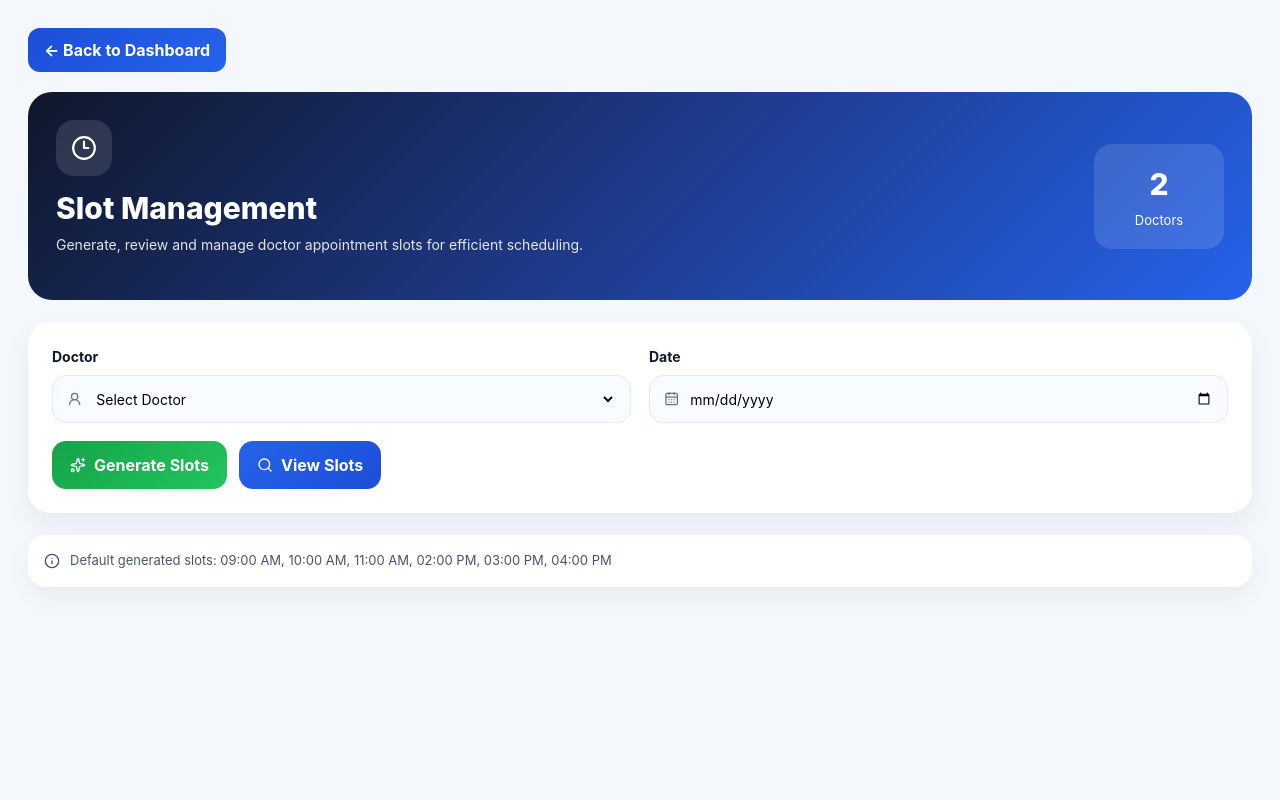
Test: AdminSlots › slots displayed
The image size is (1280, 800).
Select "Dr. Ravi Kumar (Cardiology)" in the dropdown at (354, 399), box [92,390,616,409]
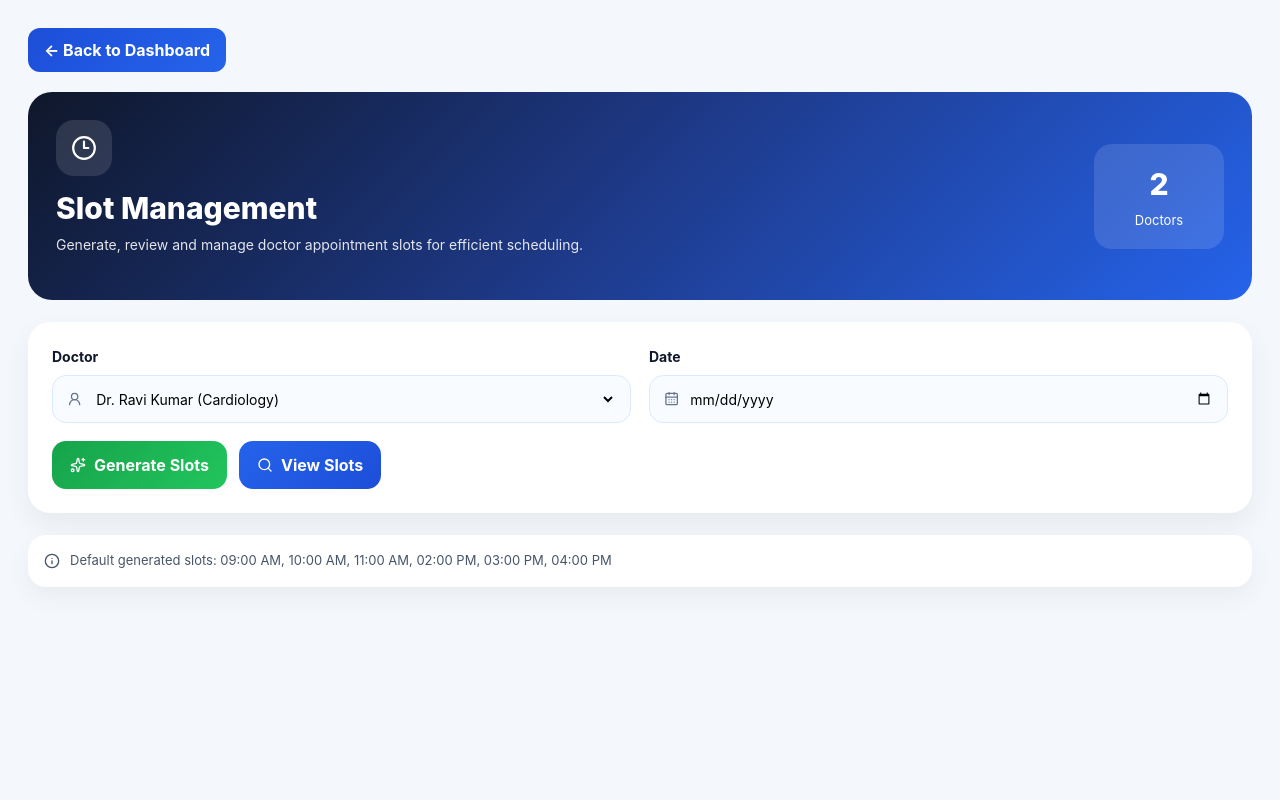
Type "2026-05-10" into the date field.
click(951, 399); type("2026-05-10")  # box [689,389,1213,410]
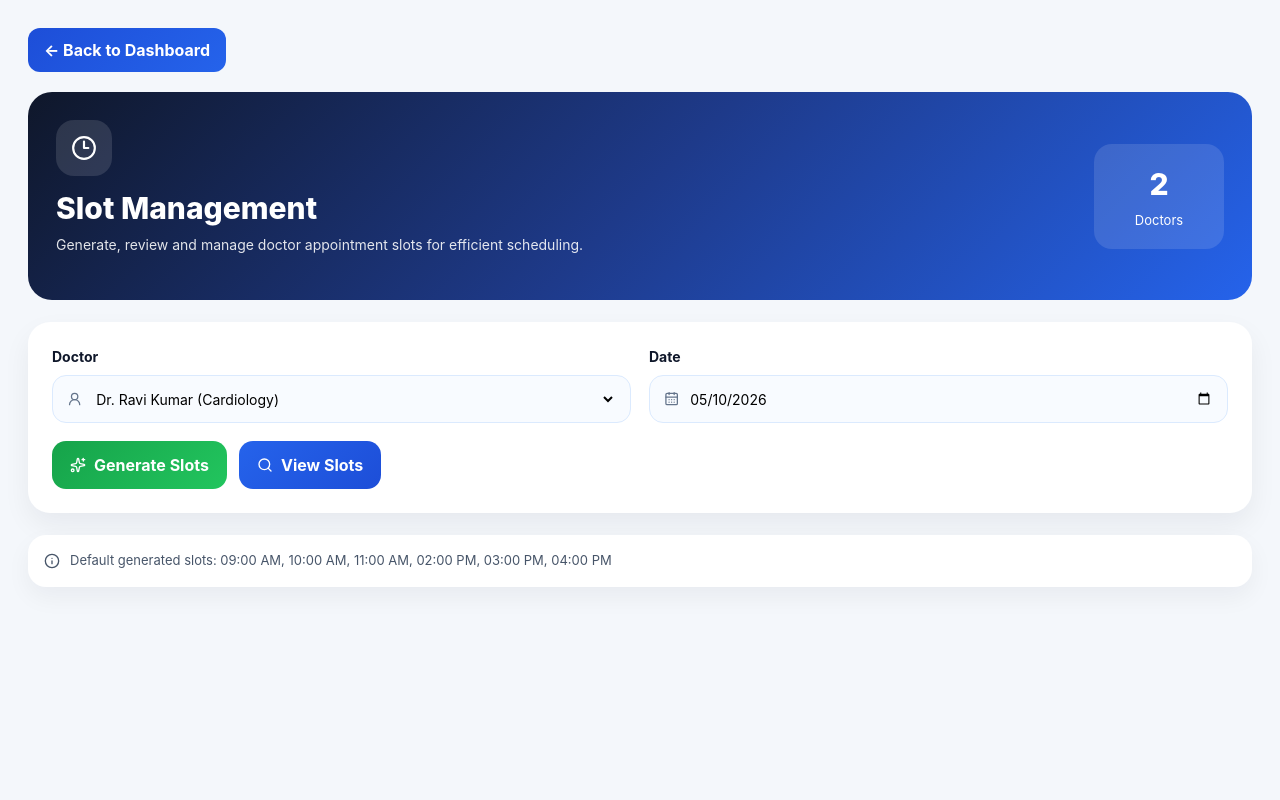
Click the button "View Slots".
click(310, 465)  # box [239,441,381,489]
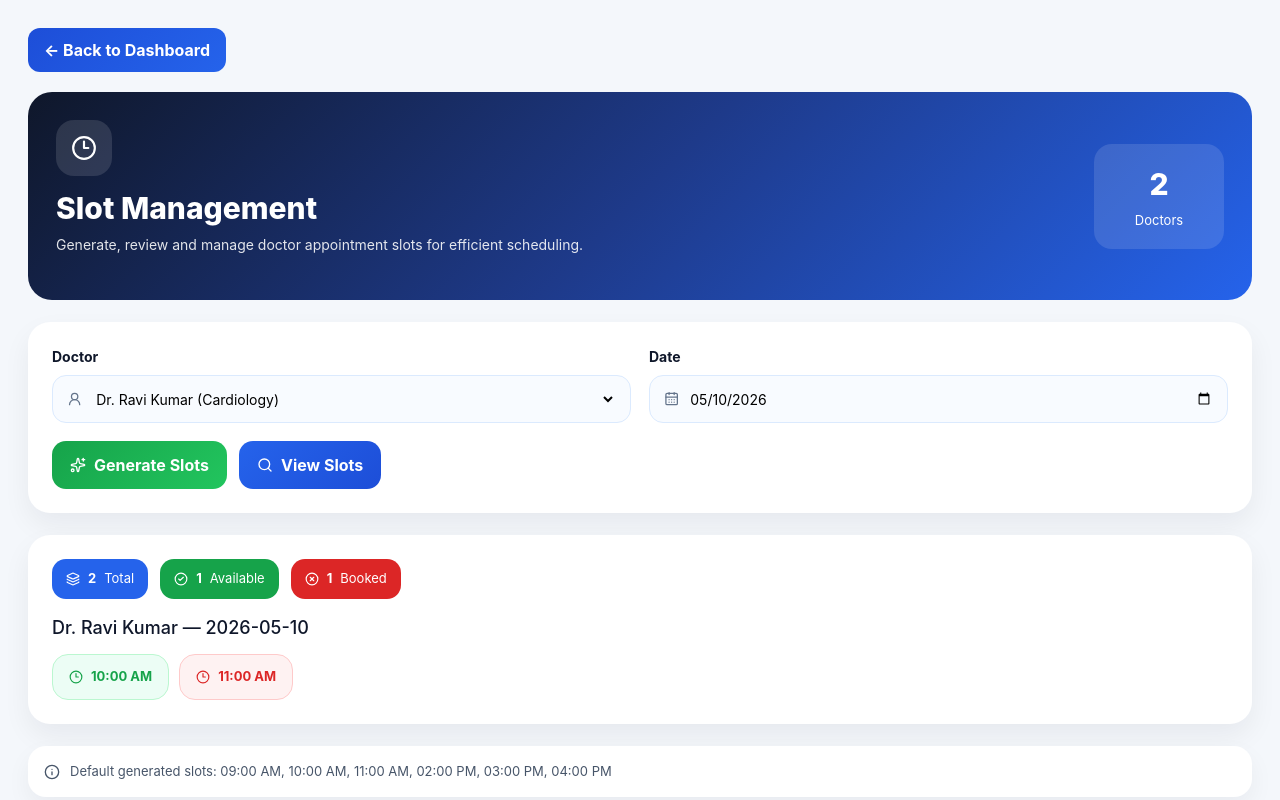
Expected: the text "10:00 AM" is shown, [70,763,612,779]
Expected: the text "1 Available" is shown, [160,559,279,599]
